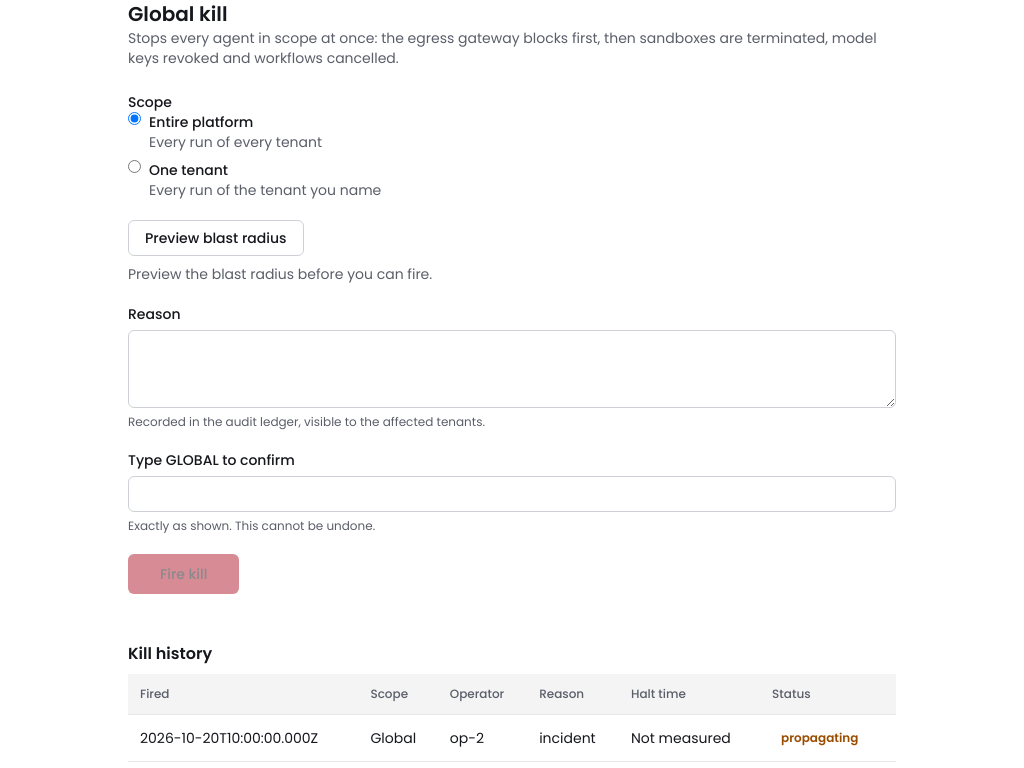
Scenario: GlobalKillPanel: errors › follows the kill already in progress instead of firing a duplicate
Click the button "Preview blast radius" at (216, 238), box left=128, top=220, right=304, bottom=256
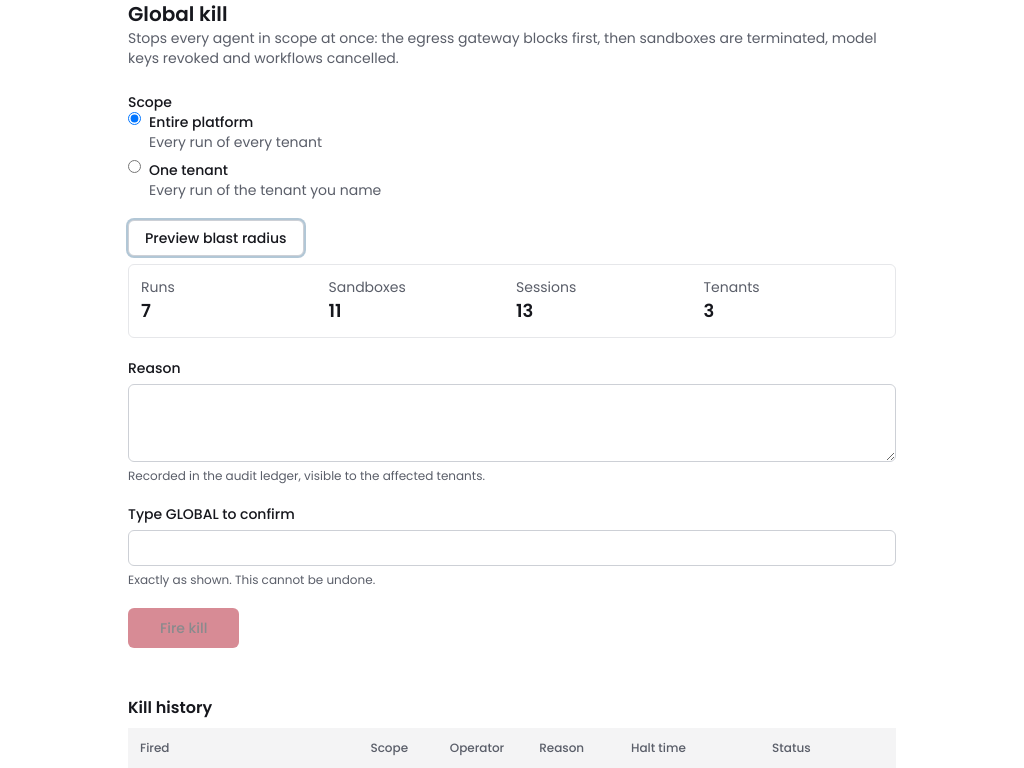
Expected: the text "Preview the blast radius before" is gone
Type "platform incident" into the text box labelled "Reason" at (512, 423), box left=128, top=384, right=896, bottom=462
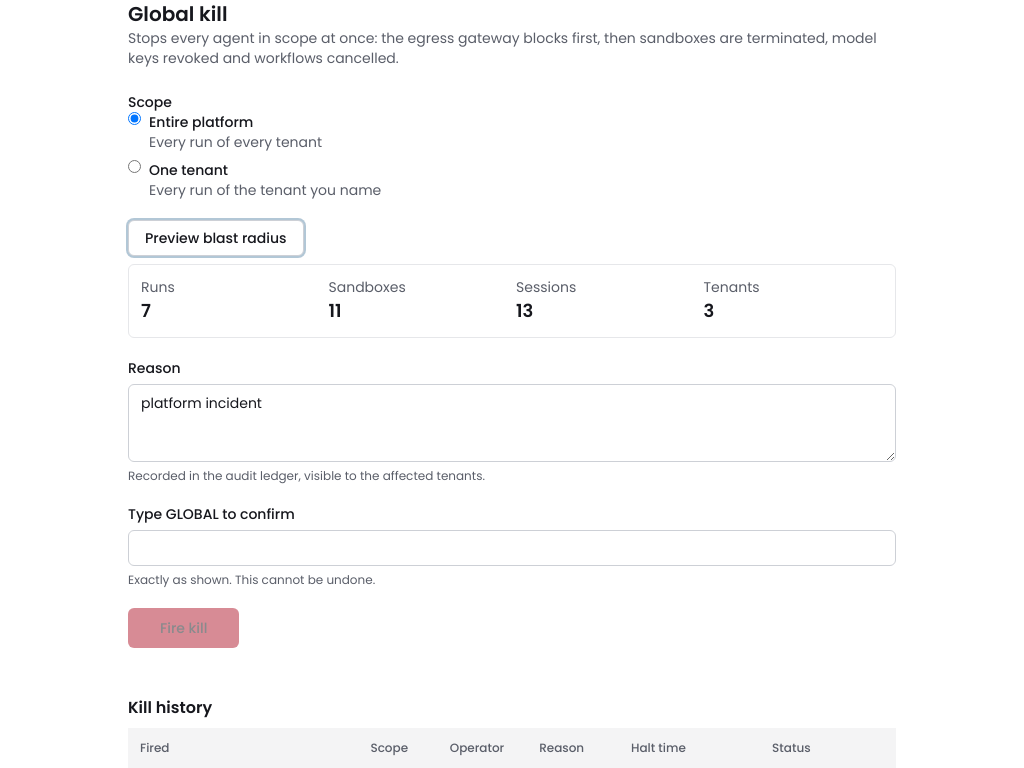
Type "GLOBAL" into the field labelled "Type GLOBAL to confirm" at (512, 548), box left=128, top=530, right=896, bottom=566
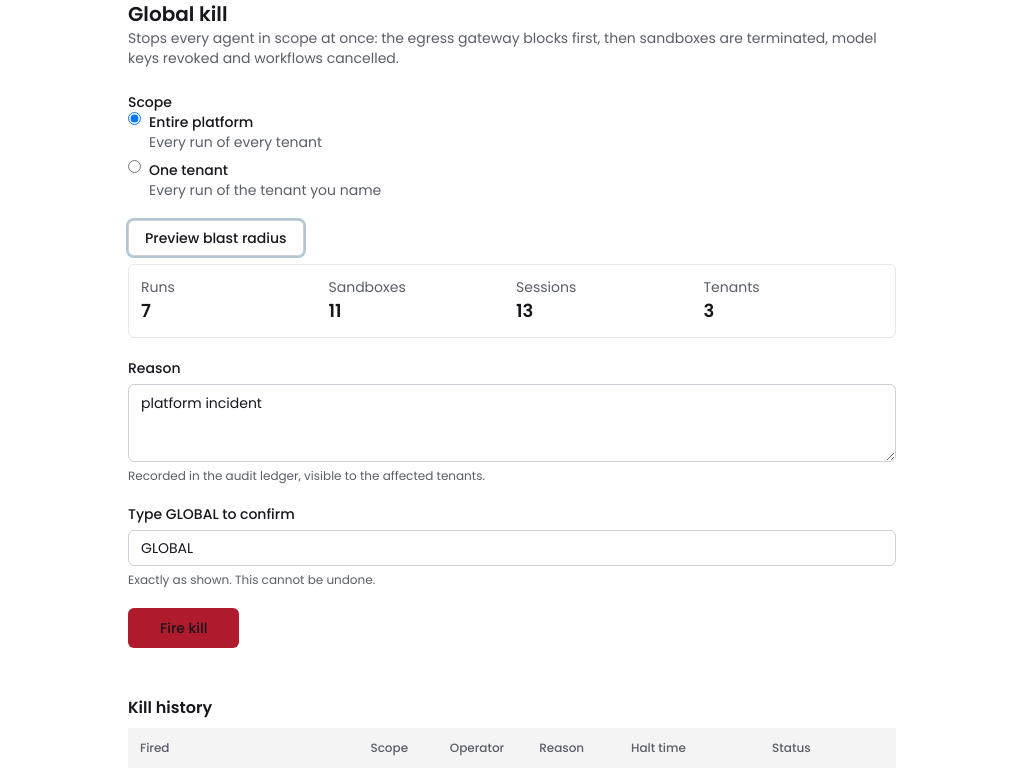
Click the button "Fire kill" at (184, 628), box left=128, top=608, right=239, bottom=648
(page scrolled)
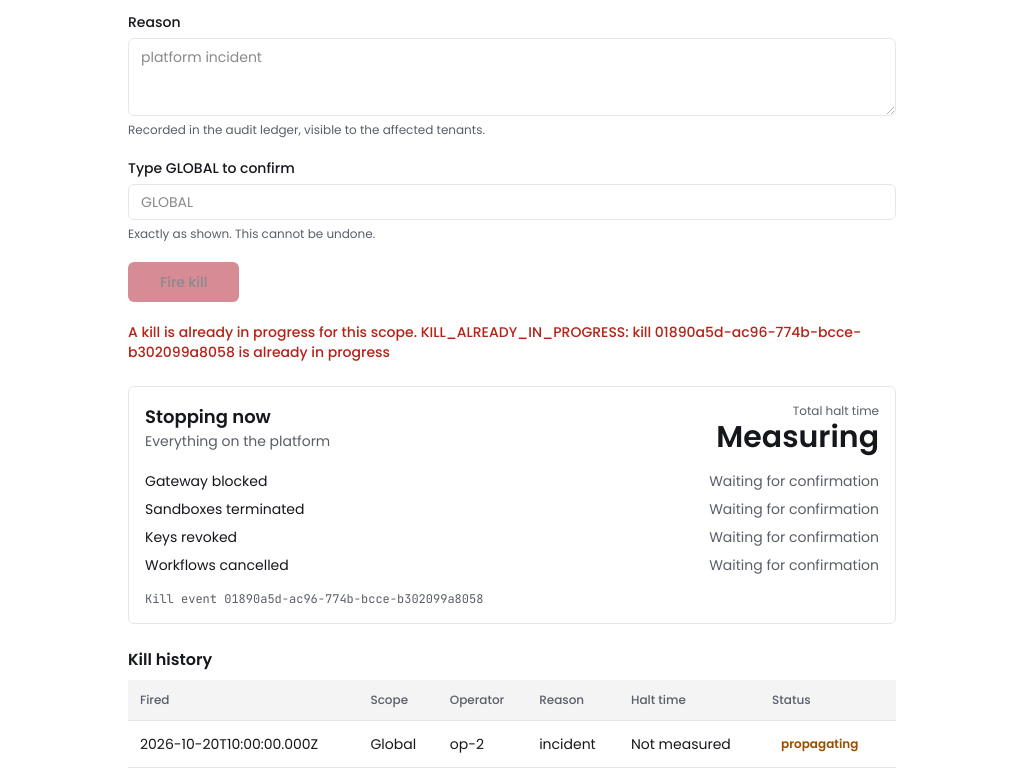
Expected: the text "A kill is already in progress for this scope" is shown, left=128, top=322, right=861, bottom=362
Expected: the heading "Stopping now" is shown, left=145, top=404, right=271, bottom=429
